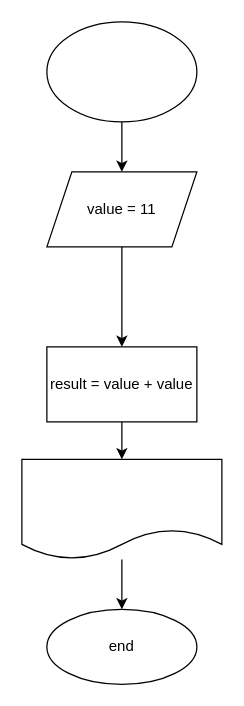
Image size: 244x706. Some labels were removed from this diagram. The box of each missing label's shape, as (x1, y1, x2, y2) in pixels:
" Result:", result ": (21, 458, 222, 559)
Start: (46, 21, 197, 122)
